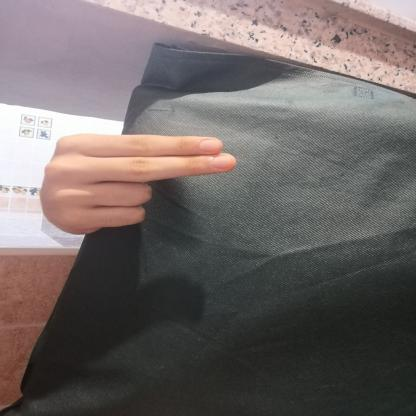AYN: (18, 121, 248, 242)
